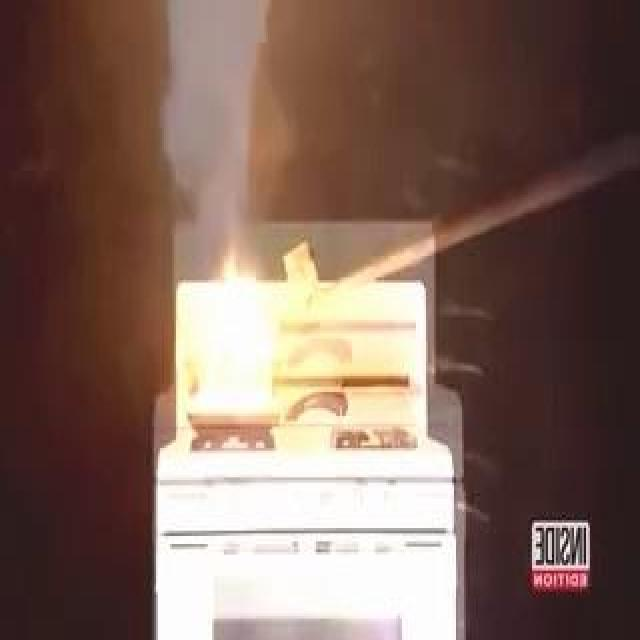Fire: (196, 216, 286, 432)
